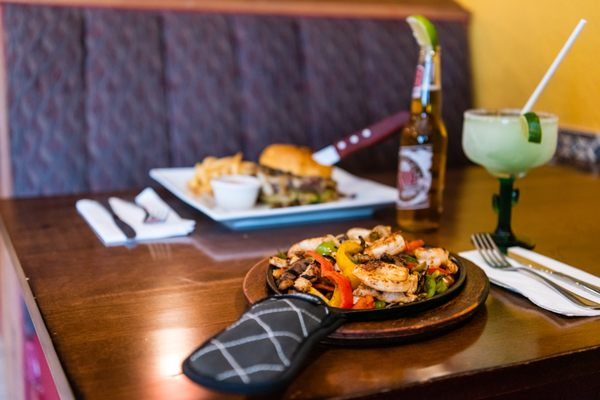pizza: (211, 174, 260, 210)
soup: (256, 142, 339, 205)
sushi: (211, 174, 261, 210)
